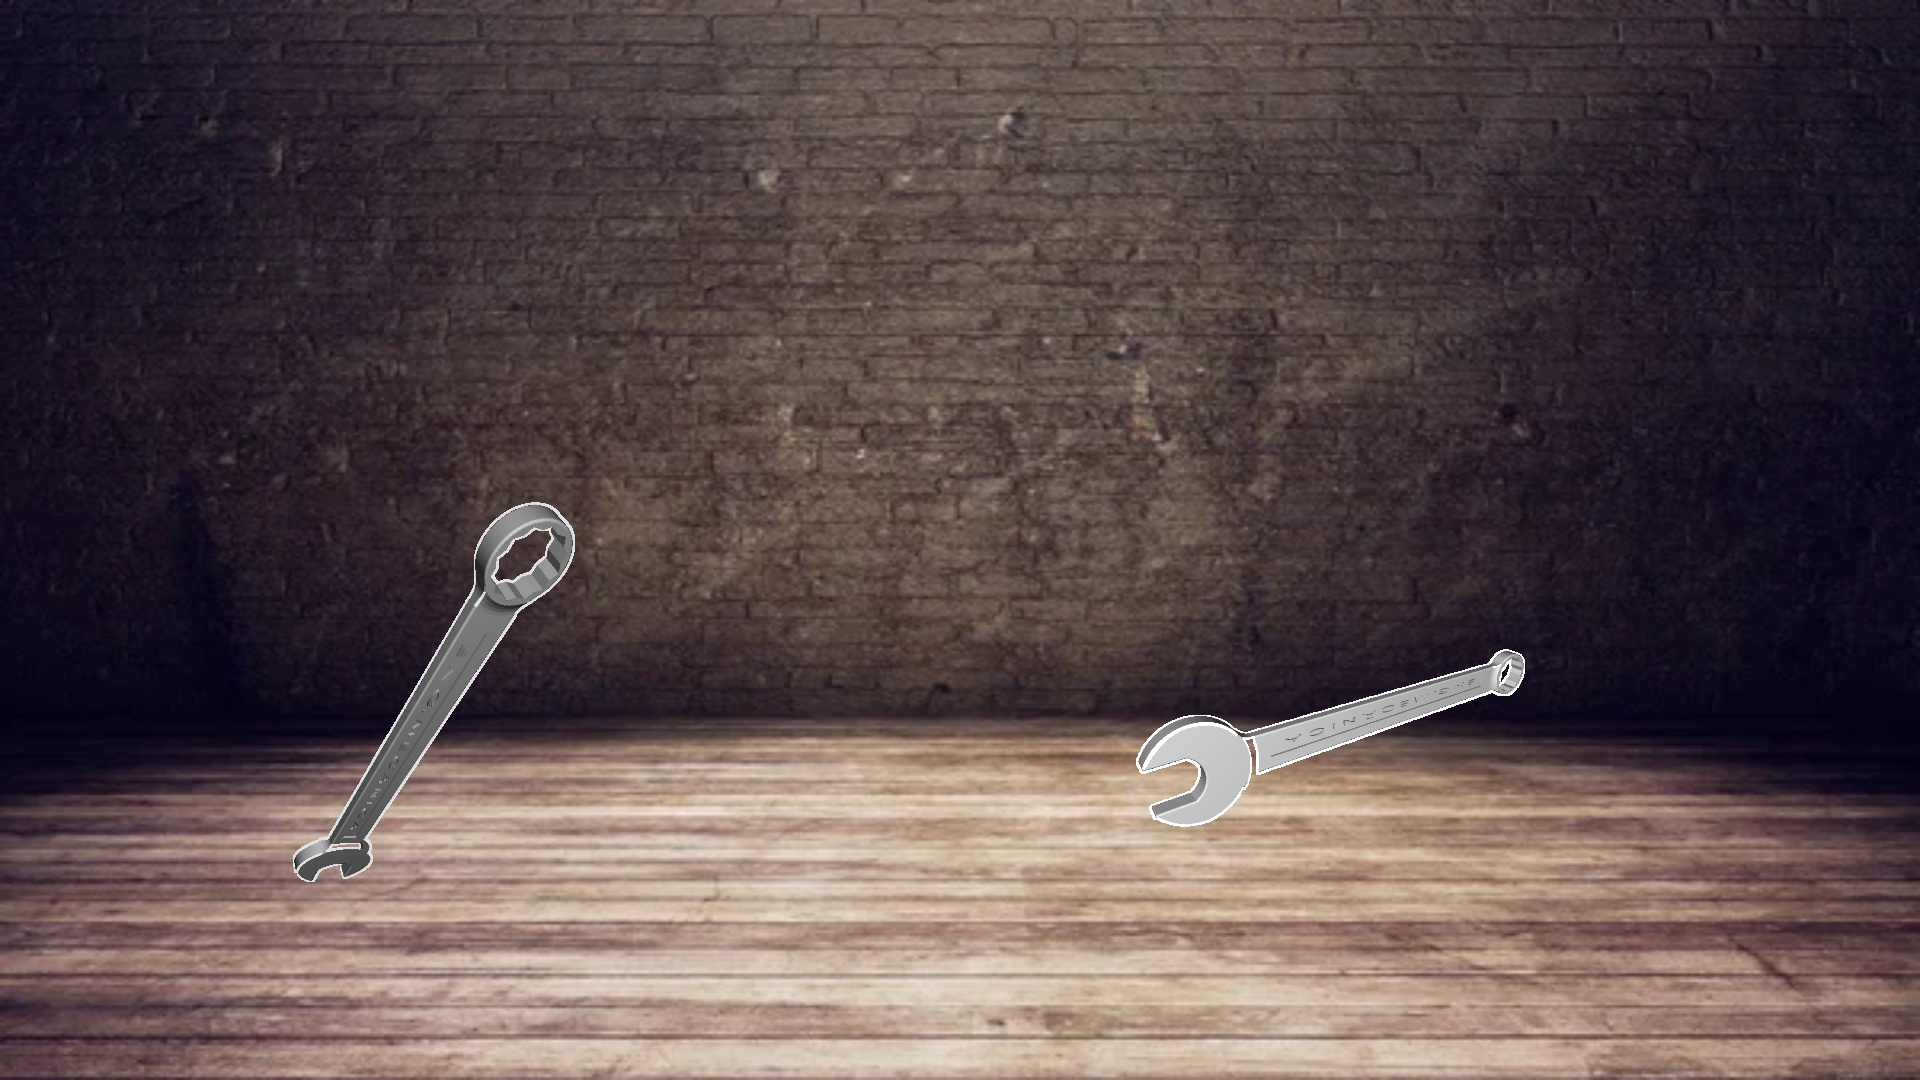Mixed Key: (293, 502, 574, 881), (1135, 649, 1524, 825)
